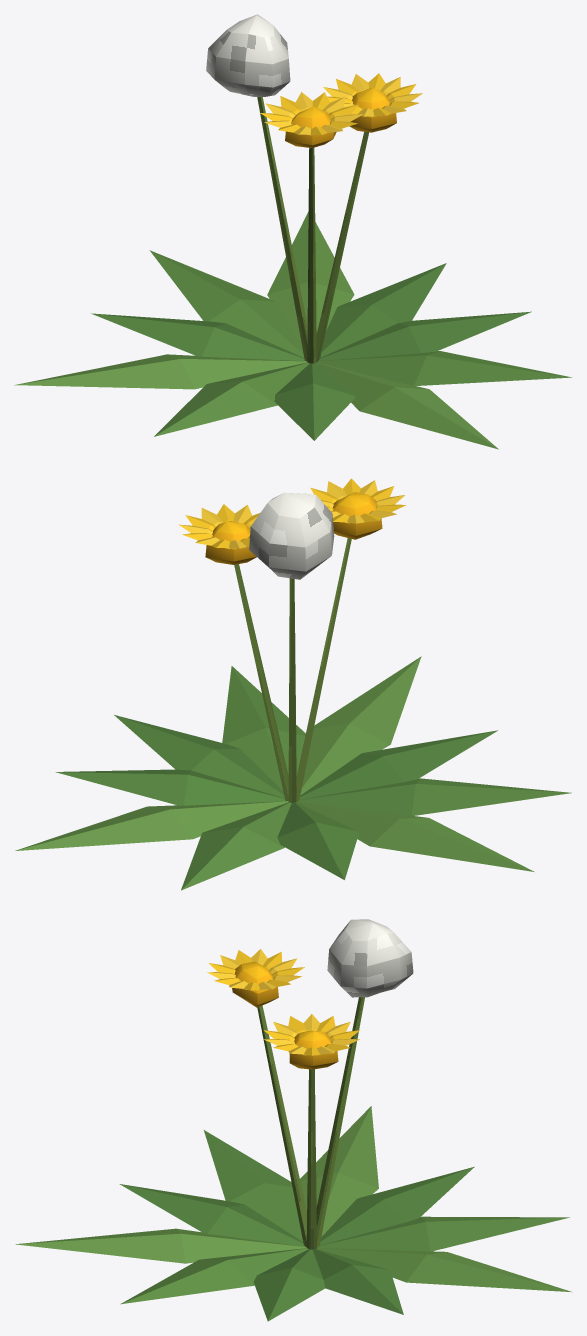
File: f_dandelion.glb
3 renders of one model, top to bottom at view 1: azimuth 30°, elevation 25°; view 2: azimuth 150°, elevation 25°; view 3: azimuth 270°, elevation 25°, orthographic. The views are drawn at different scales.
Visible parts, largest first — view 1: f_dandelion_mesh; view 2: f_dandelion_mesh; view 3: f_dandelion_mesh.
Boxes of the visible parts, x1=… form: f_dandelion_mesh: x1=14, y1=14, x2=572, y2=449; f_dandelion_mesh: x1=15, y1=478, x2=571, y2=890; f_dandelion_mesh: x1=15, y1=919, x2=572, y2=1321.
Bounding box in the file's own units: 0.392 × 0.275 × 0.4288.
Materials: 1 (1 with a texture image).
